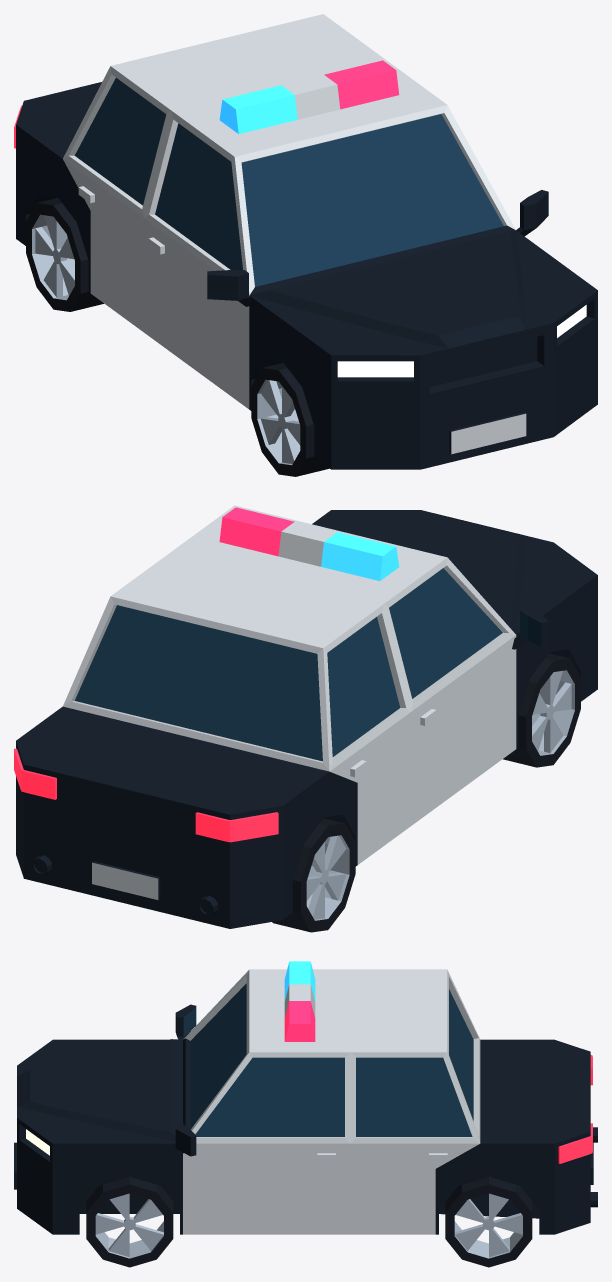
The model's file is police-sedan.glb.
3 views of the same model, one above another, from view 1: azimuth 30°, elevation 25°; view 2: azimuth 150°, elevation 25°; view 3: azimuth 270°, elevation 25° (orthographic). The views are drawn at different scales.
Parts seen in each view (by area): view 1: Police_Sedan, Police_Sedan_wheel_front_right, Police_Sedan_wheel_rear_right; view 2: Police_Sedan, Police_Sedan_wheel_rear_right, Police_Sedan_wheel_front_right; view 3: Police_Sedan, Police_Sedan_wheel_front_left, Police_Sedan_wheel_rear_left.
Boxes of the visible parts, left/top/right/bottom form: Police_Sedan: left=14, top=14, right=597, bottom=469; Police_Sedan_wheel_front_right: left=251, top=362, right=329, bottom=476; Police_Sedan_wheel_rear_right: left=26, top=198, right=103, bottom=311; Police_Sedan: left=14, top=505, right=597, bottom=928; Police_Sedan_wheel_rear_right: left=272, top=818, right=355, bottom=932; Police_Sedan_wheel_front_right: left=503, top=653, right=580, bottom=767; Police_Sedan: left=14, top=961, right=597, bottom=1234; Police_Sedan_wheel_front_left: left=86, top=1177, right=173, bottom=1267; Police_Sedan_wheel_rear_left: left=445, top=1177, right=532, bottom=1267.
Bounding box in the file's own units: 1.53 × 1.19 × 2.85.
